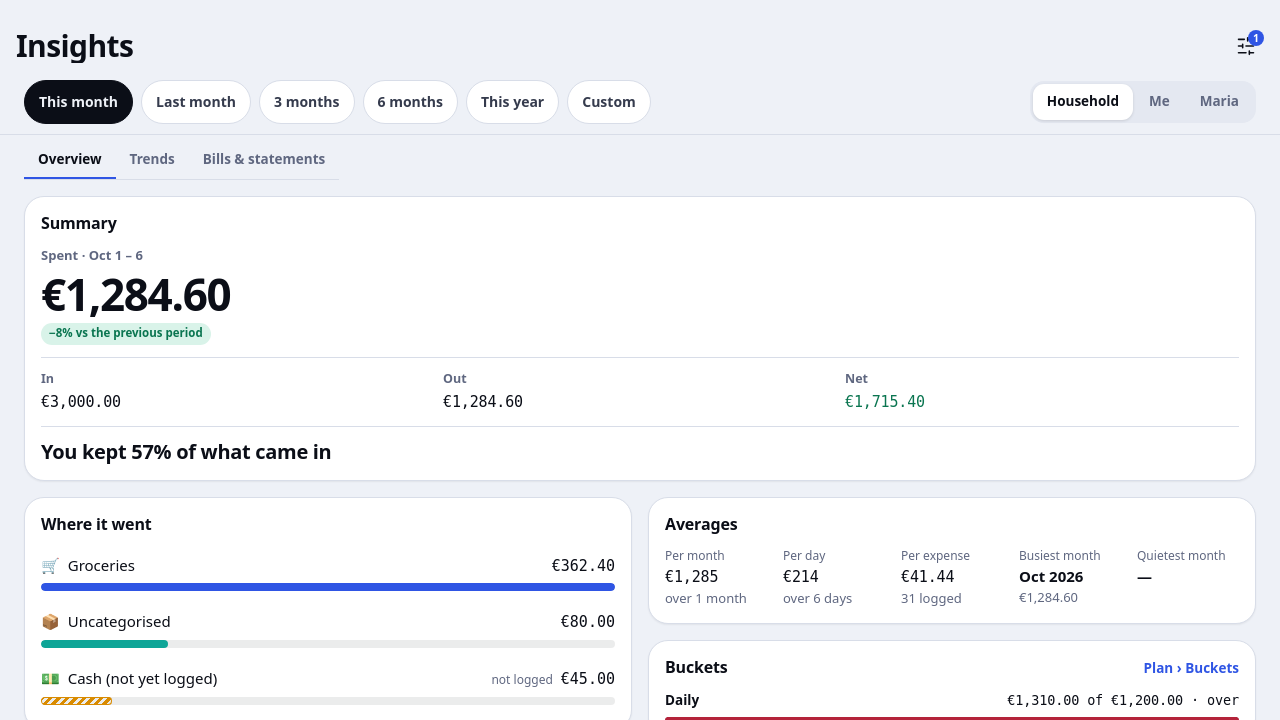
Insights › Filters opens the sheet, and URL filters reach the query
Click the button named "Filters" at (1246, 46), box [1224,24,1268,68]
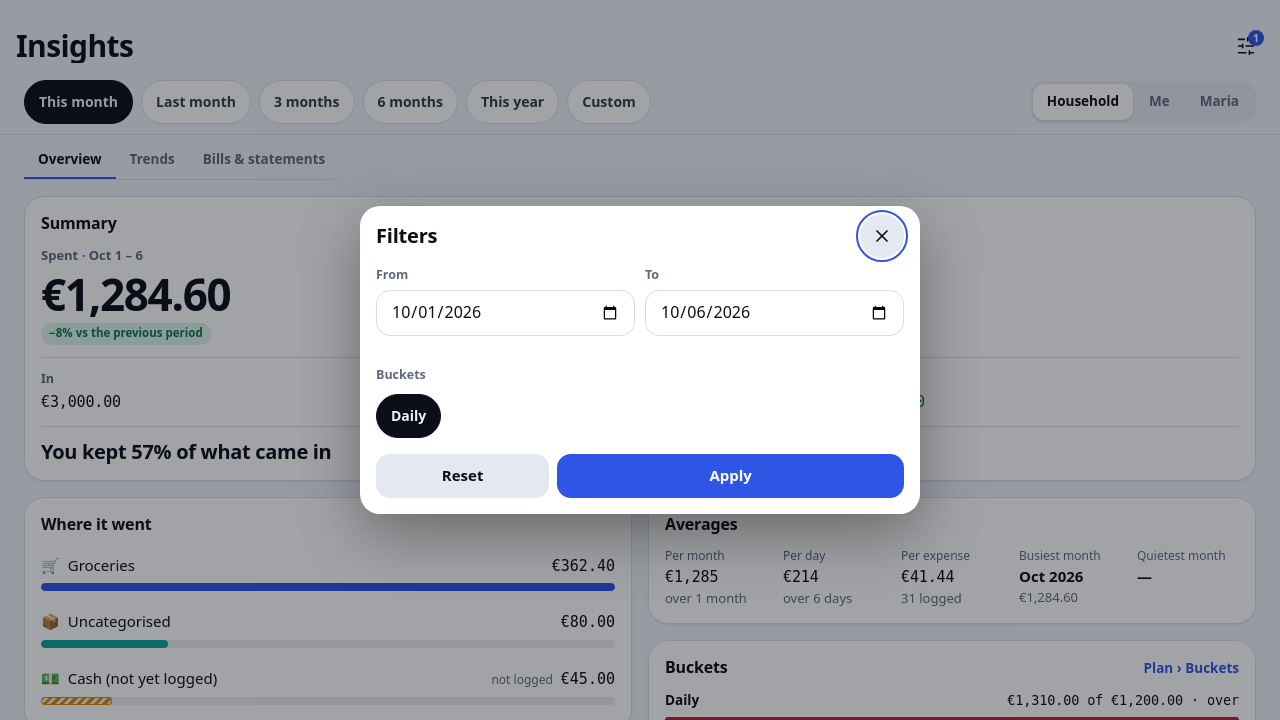
Expected: the dialog "Filters" is shown, [360,206,920,514]
